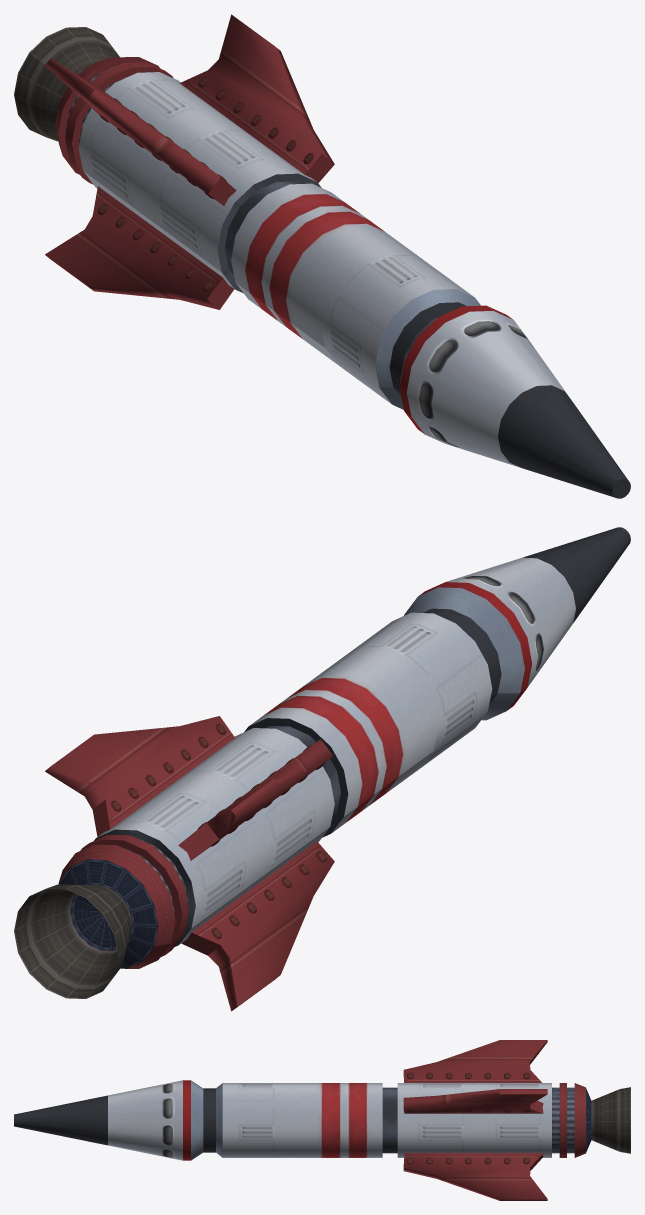
File: Missile.obj
The picture shows the model from 3 angles, top to bottom: view 1: azimuth 30°, elevation 25°; view 2: azimuth 150°, elevation 25°; view 3: azimuth 270°, elevation 25°; orthographic projection. The views are drawn at different scales.
Parts seen in each view (by area): view 1: 275, 27d, 278, 274, 272, 279, 27e, 277, 280, 273, 27a, 27f (+2 smaller); view 2: 275, 27d, 278, 27e, 279, 272, 274, 276, 277, 27f, 27a, 273 (+2 smaller); view 3: 275, 27d, 278, 274, 279, 272, 27e, 277, 280, 27f, 273, 27c (+2 smaller).
Boxes of the visible parts, box(x1,y1,x2,y2) form: 275: box(45, 14, 334, 309); 27d: box(78, 72, 316, 288); 278: box(231, 183, 419, 364); 274: box(406, 311, 569, 467); 272: box(389, 302, 630, 498); 279: box(321, 249, 474, 403); 27e: box(14, 27, 119, 141); 277: box(375, 289, 480, 409); 280: box(65, 65, 321, 293); 273: box(399, 305, 512, 434); 27a: box(207, 154, 334, 309); 27f: box(225, 181, 300, 274); 275: box(45, 716, 334, 1011); 27d: box(97, 728, 334, 944); 278: box(249, 652, 437, 832); 27e: box(14, 884, 132, 998); 279: box(339, 612, 492, 767); 272: box(244, 527, 630, 837); 274: box(446, 557, 575, 687); 276: box(58, 859, 158, 968); 277: box(404, 587, 524, 720); 27f: box(94, 725, 340, 946); 27a: box(92, 799, 220, 955); 273: box(419, 582, 532, 710); 275: box(403, 1040, 585, 1200); 27d: box(397, 1083, 551, 1157); 278: box(283, 1083, 382, 1157); 274: box(108, 1080, 182, 1160); 279: box(222, 1083, 282, 1157); 272: box(14, 1088, 215, 1152); 27e: box(591, 1087, 630, 1153); 277: box(191, 1080, 222, 1160); 280: box(552, 1087, 574, 1153); 27f: box(382, 1087, 397, 1153); 273: box(183, 1080, 190, 1160); 27c: box(407, 1072, 530, 1164).
Size of the model in its own units: 4.81 by 4.81 by 24.
15 materials, 15 textured.
